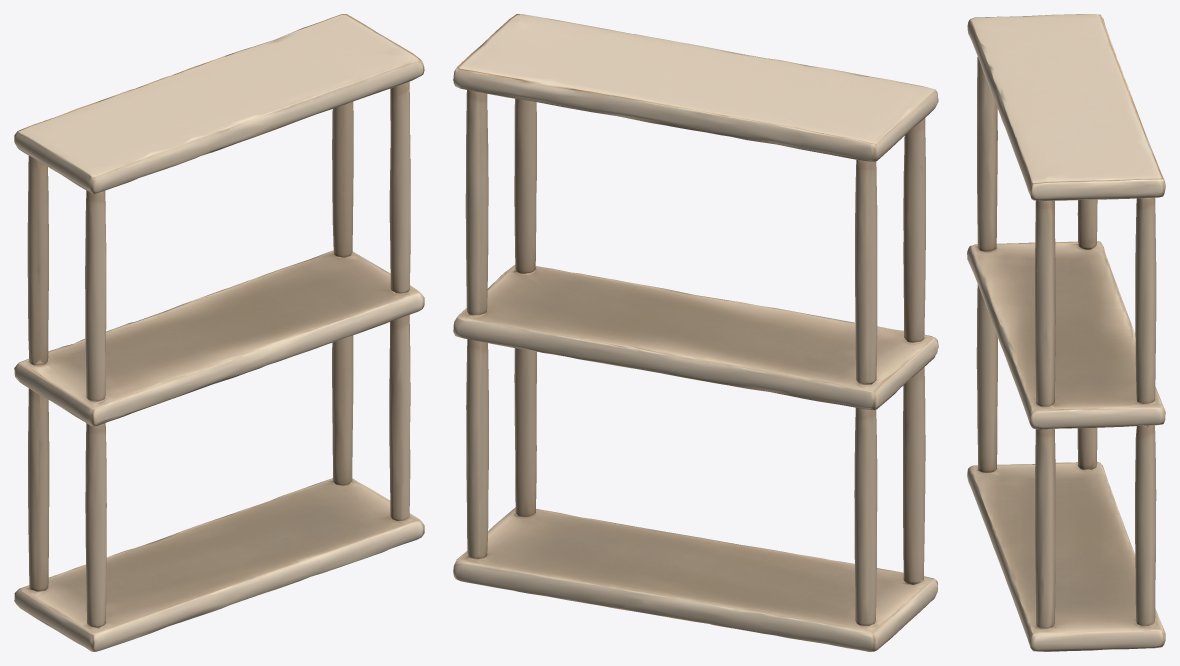
The model's file is raw_shelf_etagere_3tier_tripo.glb.
3 views of the same model, side by side, from view 1: azimuth 30°, elevation 25°; view 2: azimuth 150°, elevation 25°; view 3: azimuth 270°, elevation 25° (orthographic). The views are drawn at different scales.
Visible parts, largest first — view 1: tripo_node_6b0e85bf-7235-41d8-9de8-9447fe45828c; view 2: tripo_node_6b0e85bf-7235-41d8-9de8-9447fe45828c; view 3: tripo_node_6b0e85bf-7235-41d8-9de8-9447fe45828c.
Boxes of the visible parts, x1=… form: tripo_node_6b0e85bf-7235-41d8-9de8-9447fe45828c: x1=14, y1=14, x2=424, y2=651; tripo_node_6b0e85bf-7235-41d8-9de8-9447fe45828c: x1=453, y1=14, x2=938, y2=651; tripo_node_6b0e85bf-7235-41d8-9de8-9447fe45828c: x1=967, y1=14, x2=1165, y2=651.
Size of the model in its own units: 0.8088 by 1 by 0.3798.
1 material, 1 textured.
